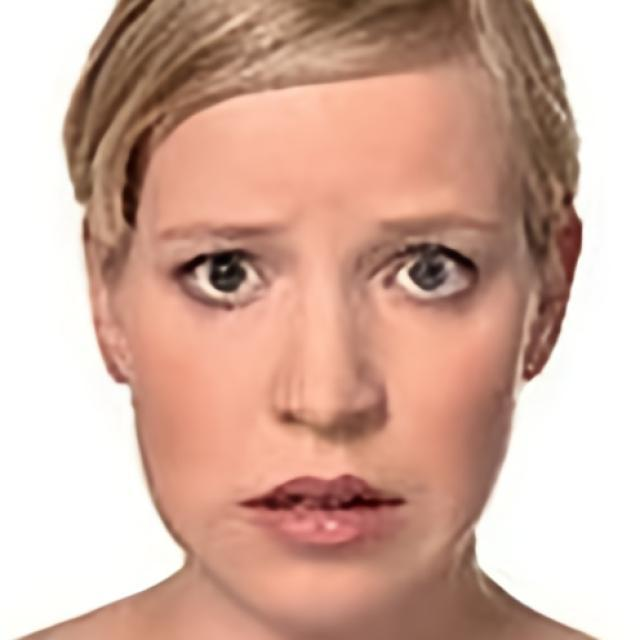fear: (126, 33, 526, 619)
